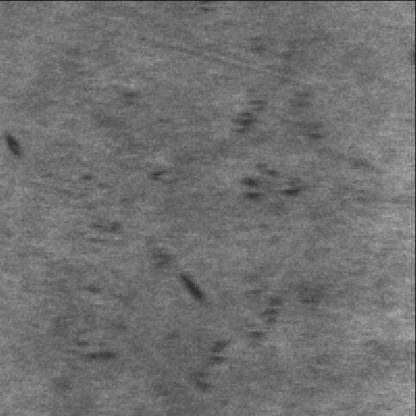rolled-in_scale: (63, 162, 196, 370), (231, 77, 331, 202), (200, 287, 289, 389)
